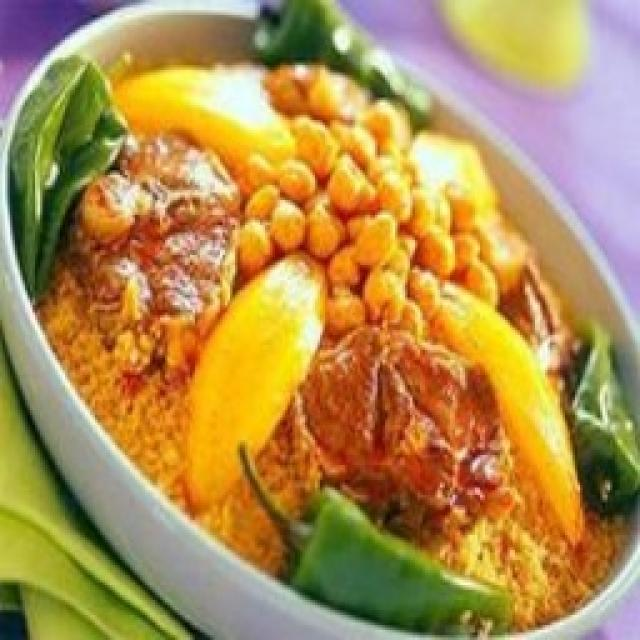Couscous: (12, 0, 640, 632)
